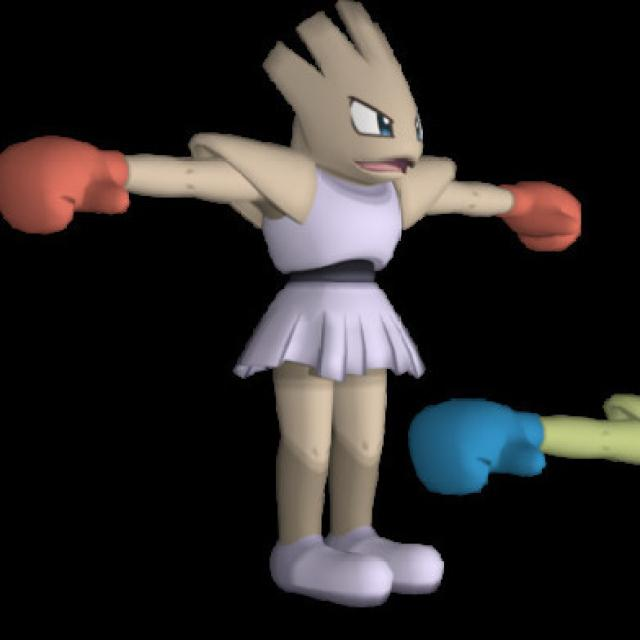Hitmonchan: (186, 0, 475, 607)
